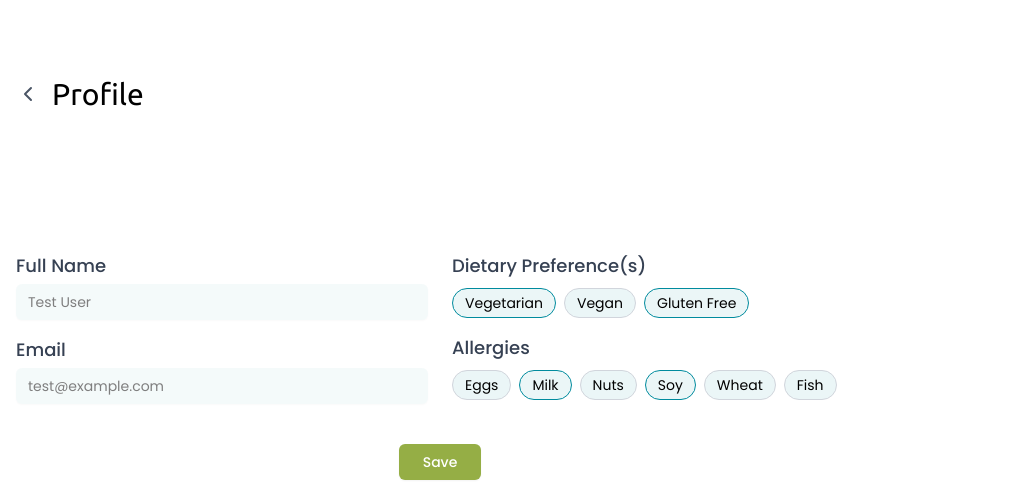
Test: UserProfile › renders student info and allows preference update
The image size is (1009, 497).
Expected: the text "Full Name" is shown, x1=16 y1=253 x2=106 y2=278
Expected: the field showing "Test User" below "Full Name" is shown, x1=16 y1=284 x2=428 y2=320
Step 1. Click the button "Save" → [440, 462], box x1=399 y1=444 x2=481 y2=480
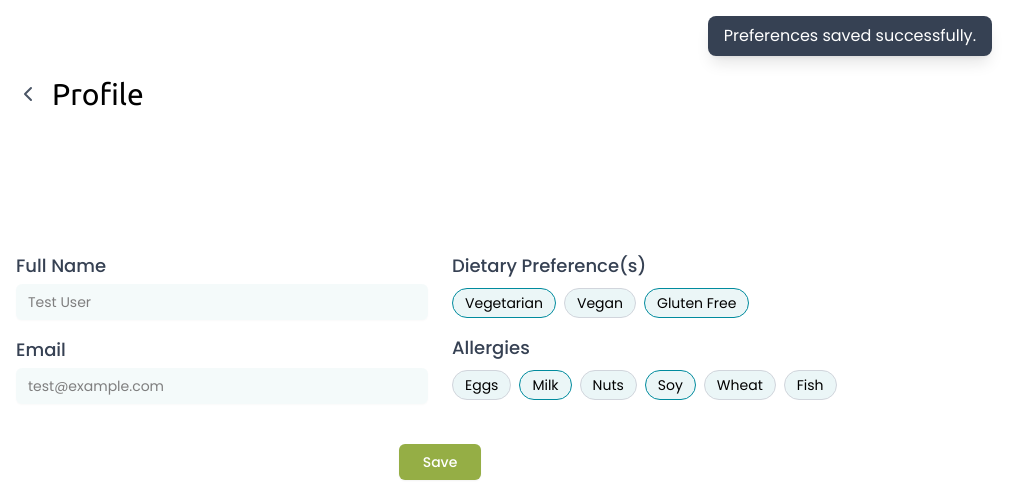
Expected: the text "Preferences saved successfully." is shown, x1=708 y1=16 x2=992 y2=56
